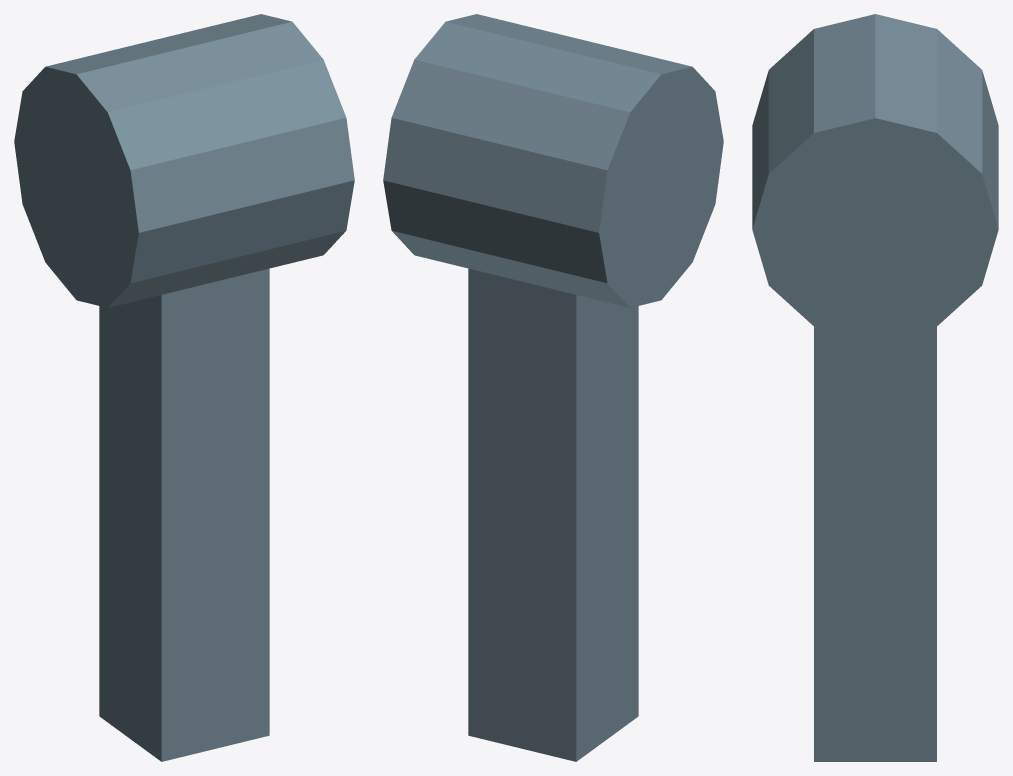
Rendered from Robot - Arm.obj.
The picture shows the model from 3 angles, left to right: view 1: azimuth 30°, elevation 25°; view 2: azimuth 150°, elevation 25°; view 3: azimuth 270°, elevation 25°; orthographic projection.
Parts seen in each view (by area): view 1: group1429272011, group968258505; view 2: group1429272011, group968258505; view 3: group968258505, group1429272011.
Part boxes in pixels (bbox=[...]): group1429272011: bbox=[99, 268, 269, 761]; group968258505: bbox=[14, 14, 354, 307]; group1429272011: bbox=[468, 268, 638, 761]; group968258505: bbox=[383, 14, 723, 307]; group968258505: bbox=[752, 14, 998, 341]; group1429272011: bbox=[814, 326, 936, 761].
Size of the model in its own units: 0.04 by 0.12 by 0.04.
